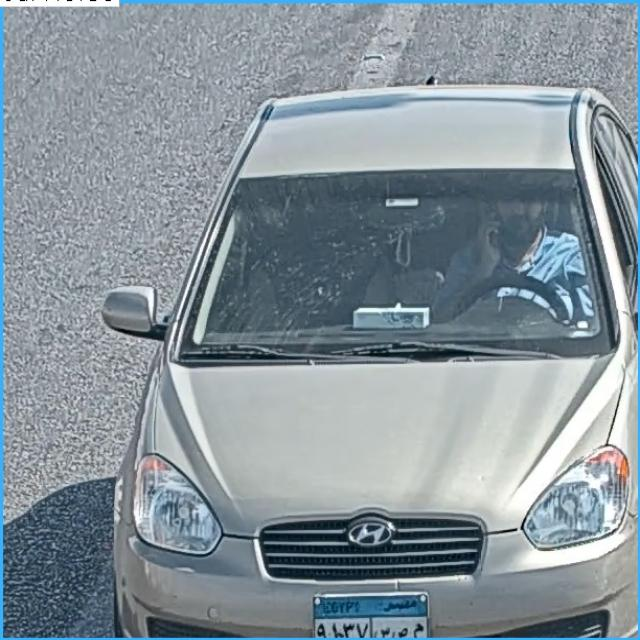windshield: (172, 178, 610, 352)
